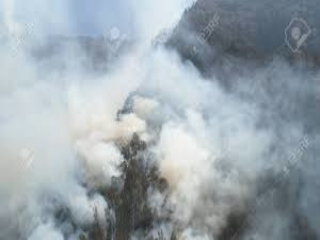smoke: (147, 70, 249, 224), (34, 91, 147, 217)
